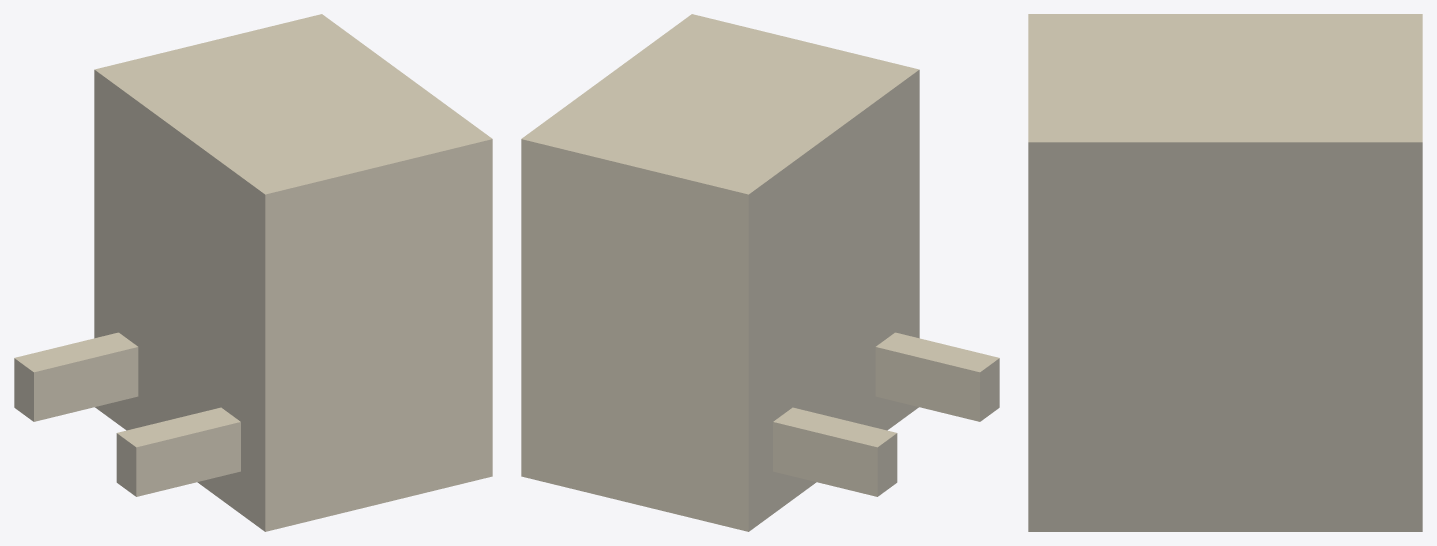
The model's file is BRAT_M5_L_HIGH_07.glb.
3 views of the same model, side by side, from view 1: azimuth 30°, elevation 25°; view 2: azimuth 150°, elevation 25°; view 3: azimuth 270°, elevation 25° (orthographic). The views are drawn at different scales.
Parts seen in each view (by area): view 1: BRAT_M5_L_HIGH_07.001; view 2: BRAT_M5_L_HIGH_07.001; view 3: BRAT_M5_L_HIGH_07.001.
Boxes of the visible parts, <box> form: BRAT_M5_L_HIGH_07.001: <box>14,14,492,531</box>; BRAT_M5_L_HIGH_07.001: <box>521,14,999,531</box>; BRAT_M5_L_HIGH_07.001: <box>1028,14,1422,531</box>.
Size of the model in its own units: 0.3503 by 0.34 by 0.312.
